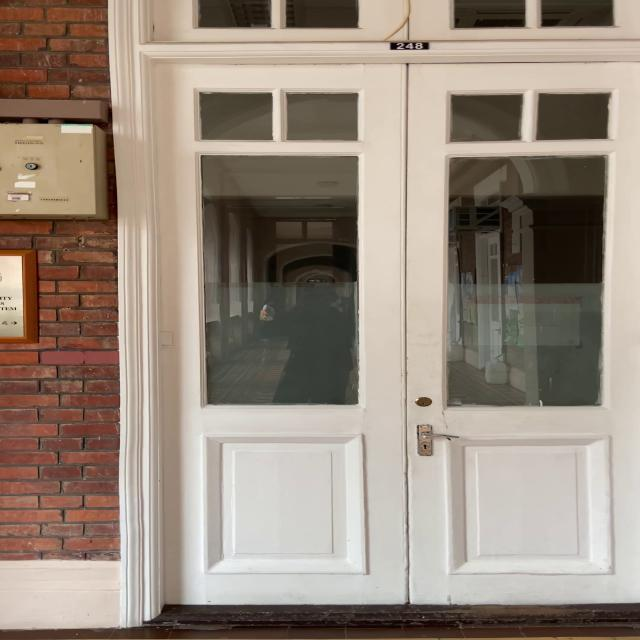room248: (379, 36, 440, 54)
